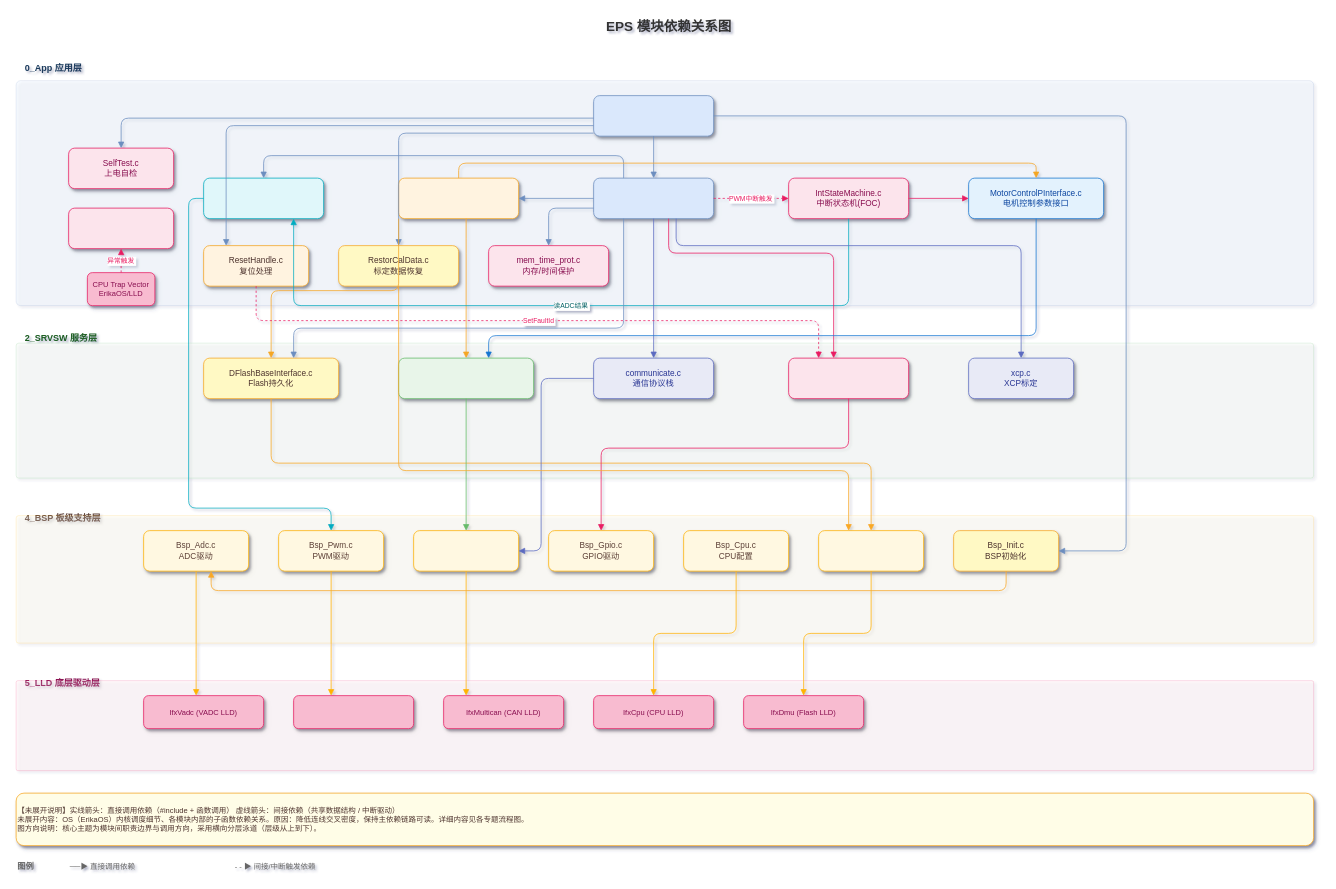
The diagram is 1336 pixels wide and 889 high, and some of its shapes have lost their labels. The centre of each missing label's shape, as x and y in pixels:
"AdcApp.c ADC采样整形" belongs at point 264,199.
"AswApp (asw_interface) ASW接口层" belongs at point 466,379.
"Bsp_Can.c CAN驱动" belongs at point 466,551.
"Bsp_Flash.c Flash驱动" belongs at point 871,551.
"IfxGtm (GTM/TOM LLD)" belongs at point 354,713.
"main.c 初始化入口" belongs at point 654,116.
"protect.c 安全保护诊断" belongs at point 849,379.
"stateMachine.c 主状态机" belongs at point 459,199.
"TaskSchedule.c 任务调度器" belongs at point 654,199.
"TrapHandle.c 异常陷阱处理" belongs at point 121,229.
